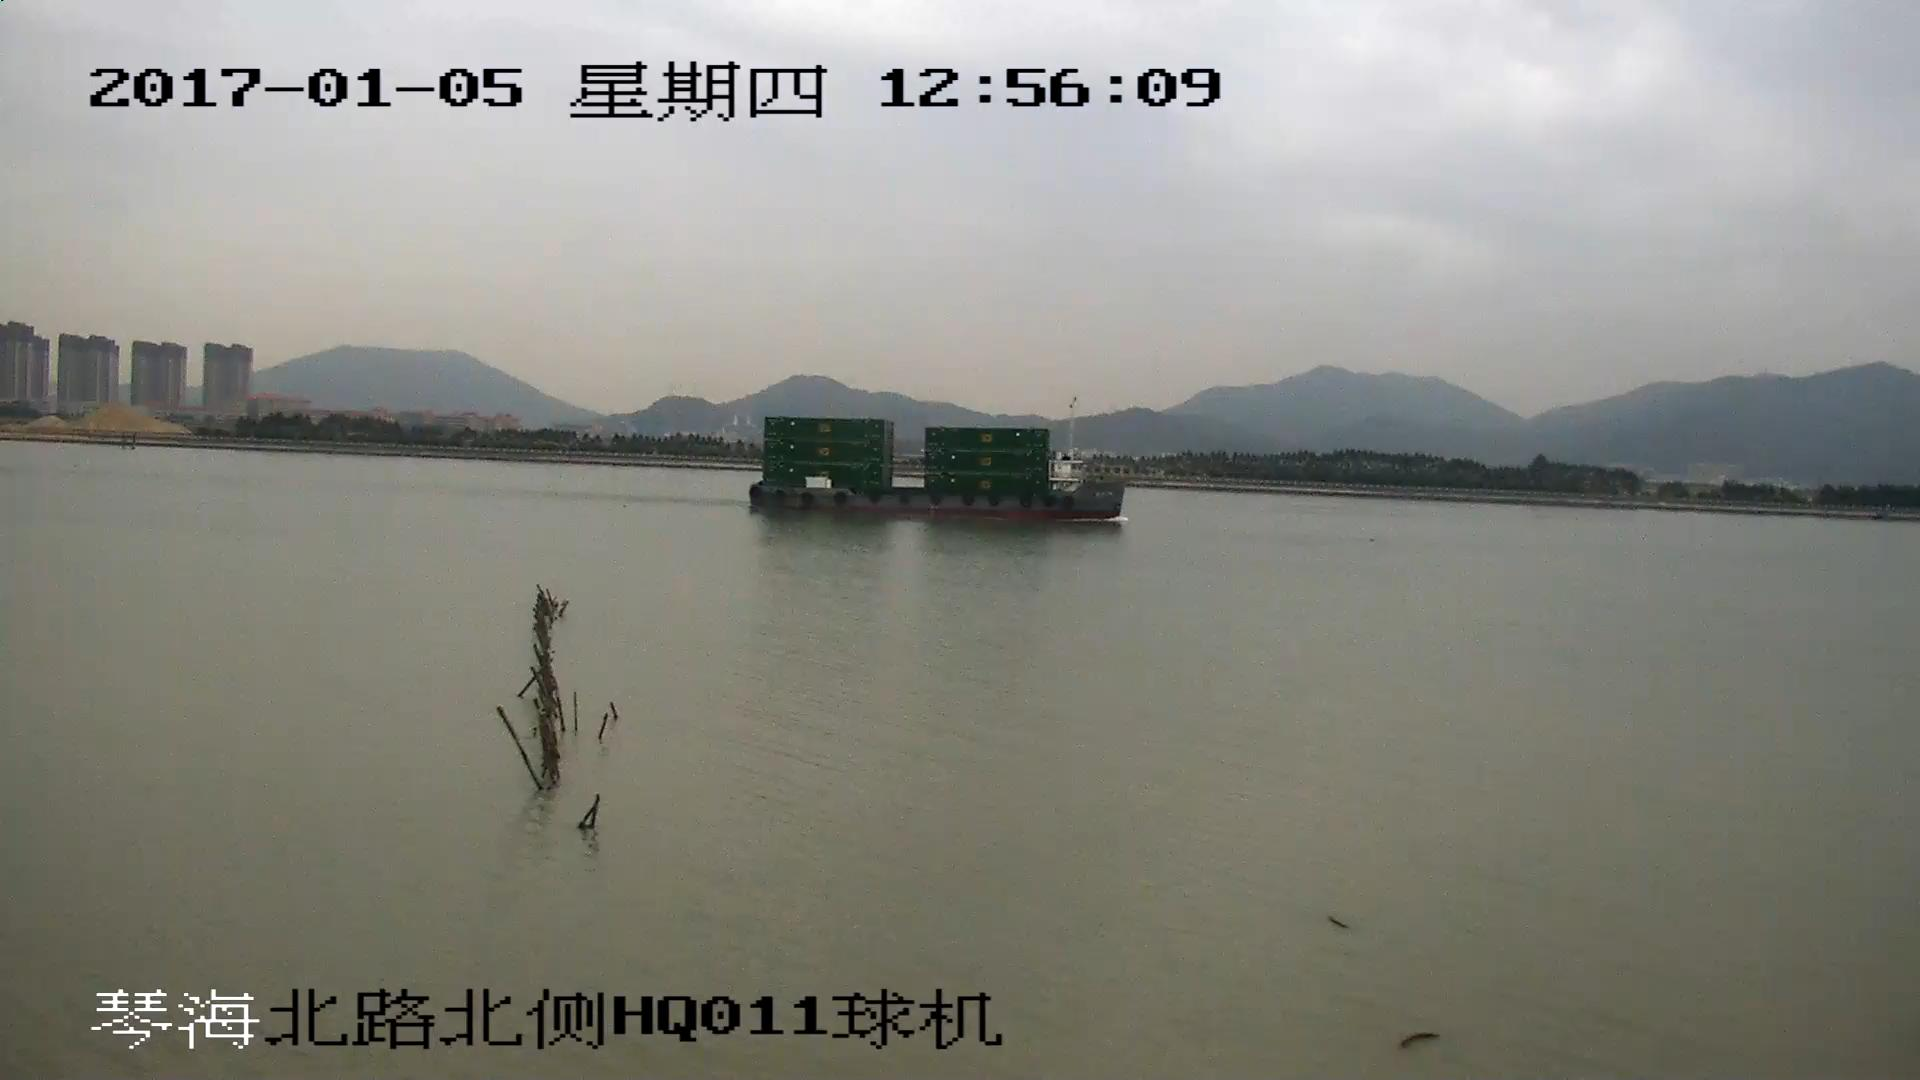container ship: (751, 418, 1120, 524)
